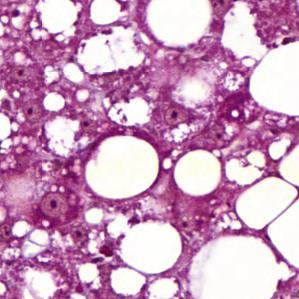steatosis: (79, 135, 164, 199)
